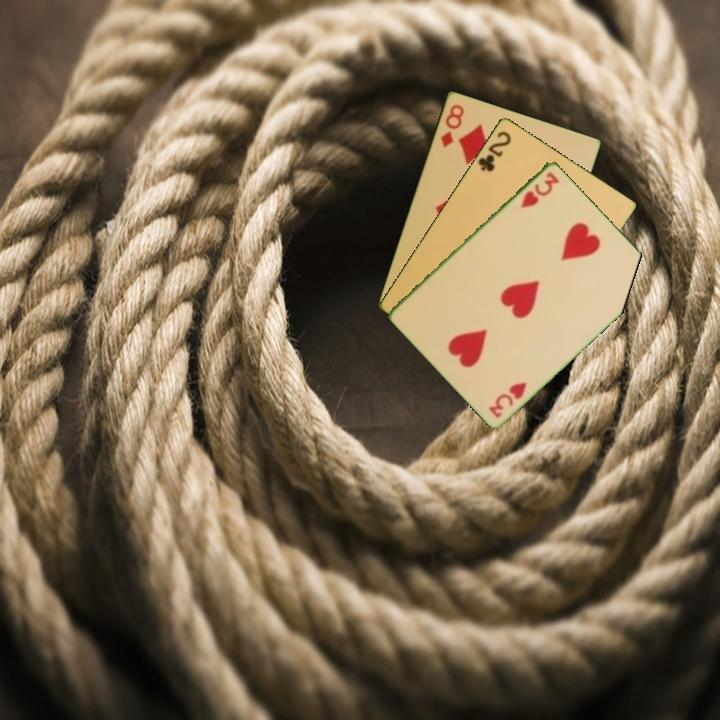2c: (474, 127, 514, 174)
3h: (485, 378, 530, 421), (517, 168, 562, 210)
8d: (437, 100, 467, 150)
